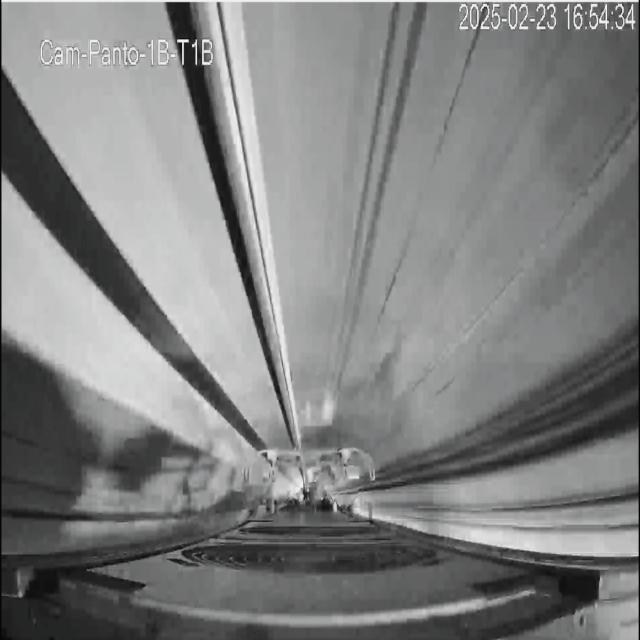Camera Stamp: (43, 32, 217, 68)
Date Stamp: (457, 3, 632, 33)
